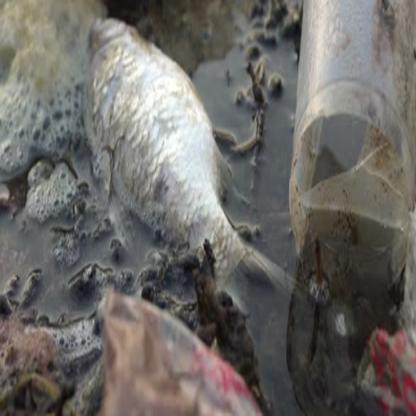deceased fish: (80, 18, 262, 296)
